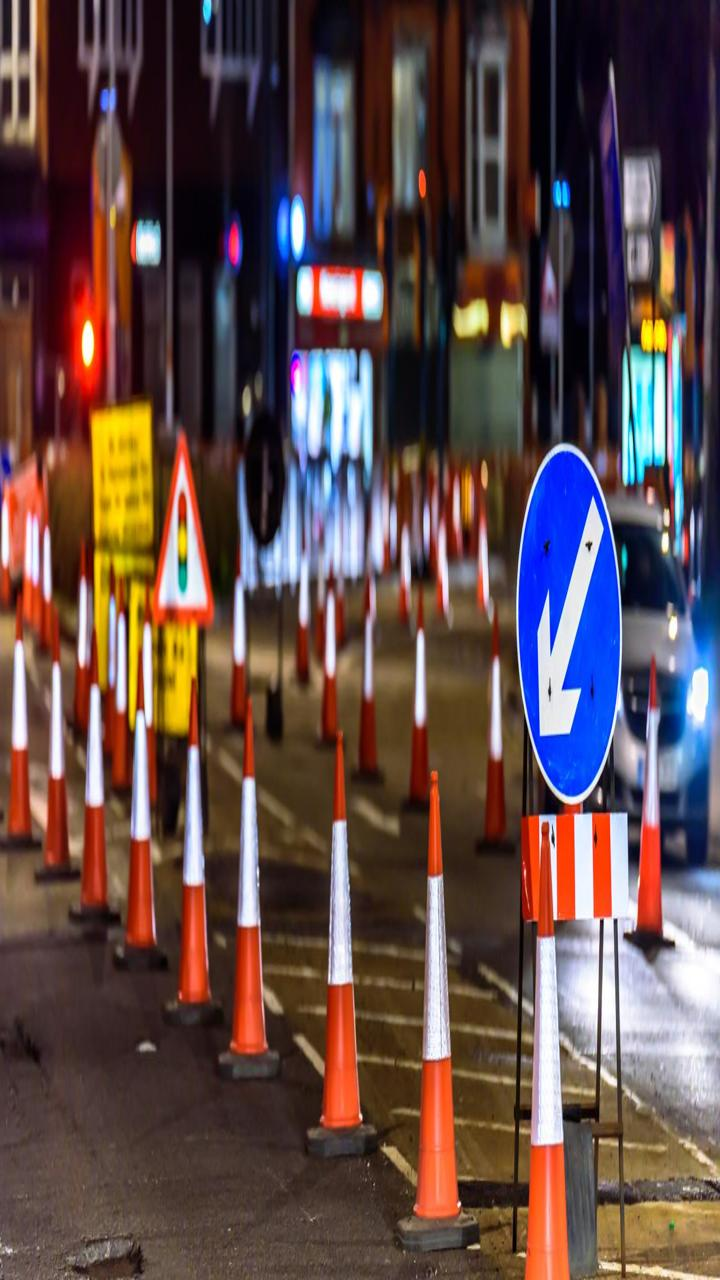Traffic sign: (496, 430, 650, 801), (155, 428, 235, 669)
